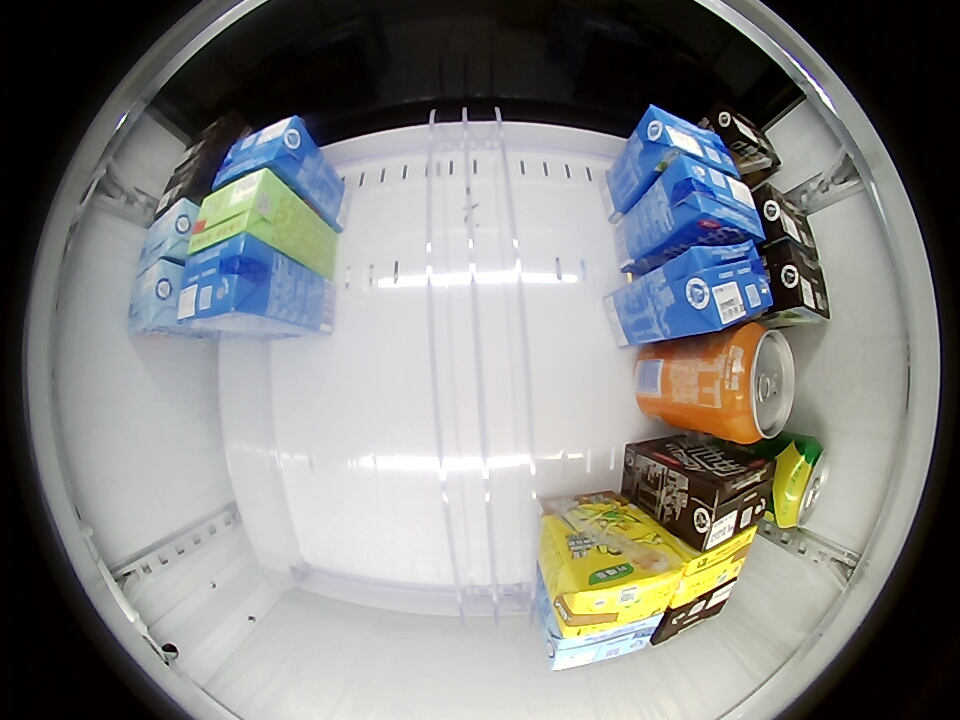fenda: (712, 322, 796, 445)
wanglaoji: (188, 167, 283, 256)
weitanai: (665, 241, 775, 331), (176, 231, 279, 327), (660, 155, 764, 245), (632, 105, 739, 178), (211, 115, 316, 189)
weitanai2: (678, 453, 773, 554), (653, 578, 736, 646), (710, 105, 783, 178), (768, 245, 831, 322), (155, 148, 221, 217), (755, 185, 818, 255), (173, 114, 245, 173)
weitanaiditang: (544, 615, 661, 672), (137, 198, 201, 276), (126, 258, 183, 337)
weitaningmeng: (551, 536, 683, 637), (669, 527, 756, 603)
xuebi2: (771, 437, 830, 528)
